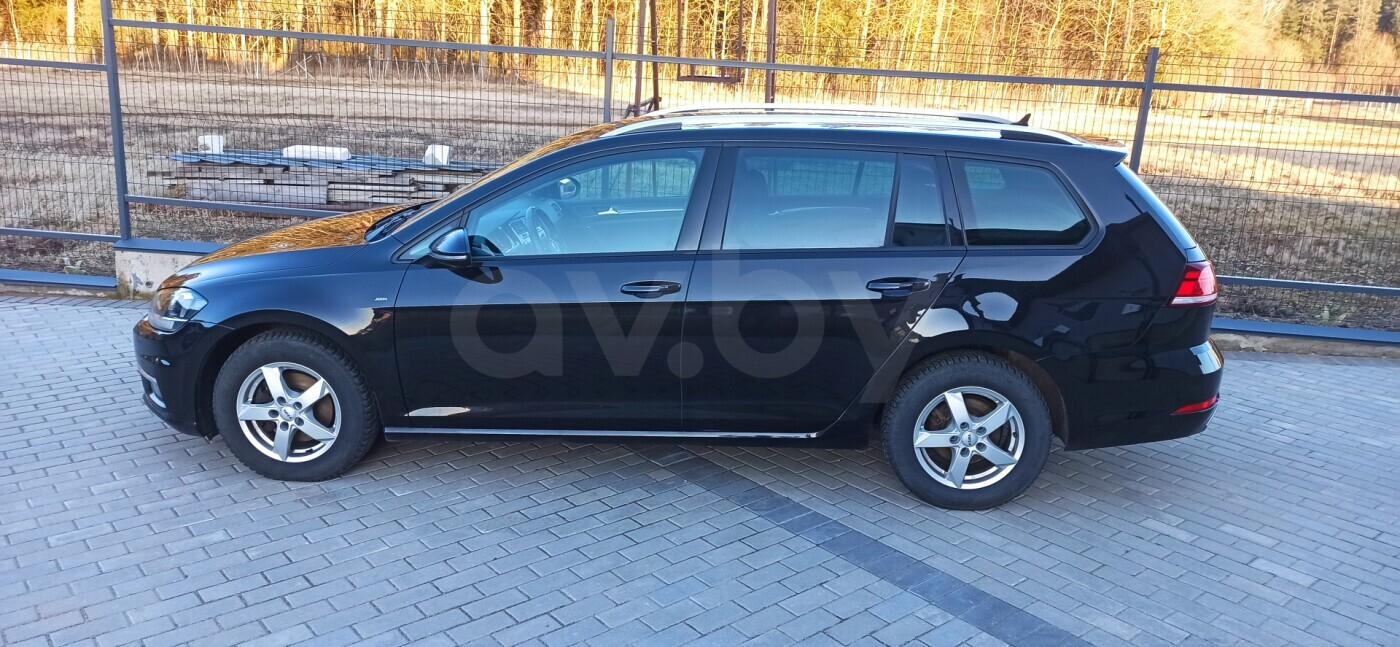Golf_2017-2021: (131, 100, 1225, 505)
